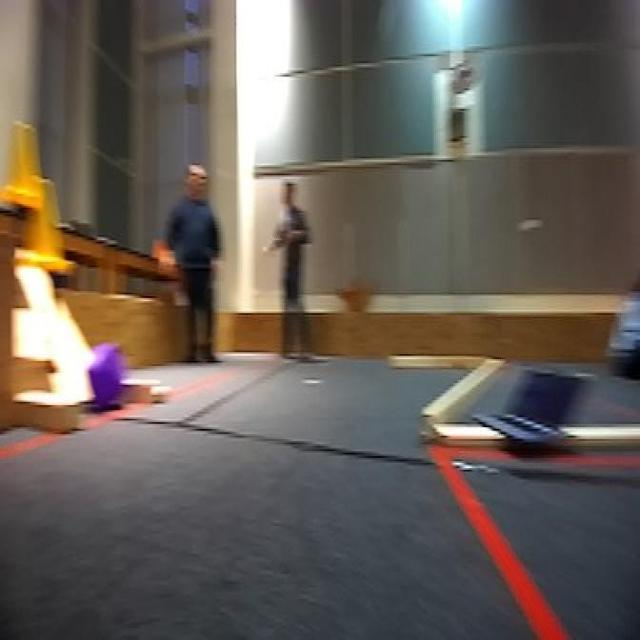frc_cone: (24, 174, 68, 270), (4, 121, 45, 209)
frc_cube: (86, 341, 126, 404)
